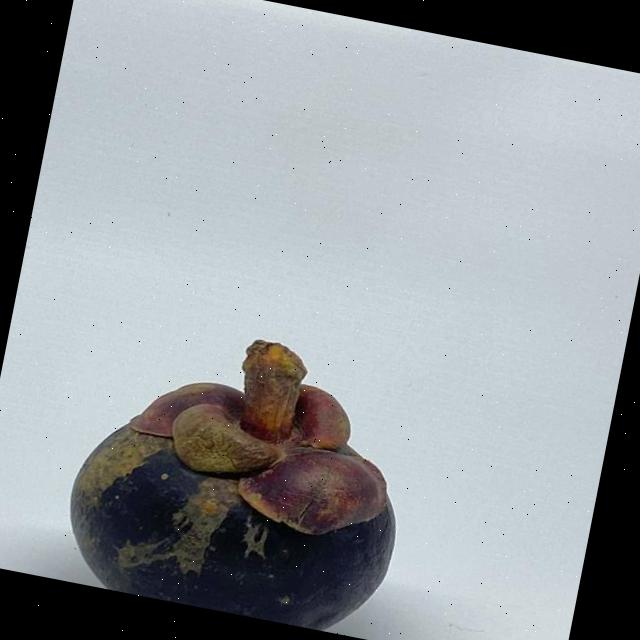mangosteen: (57, 298, 450, 640)
